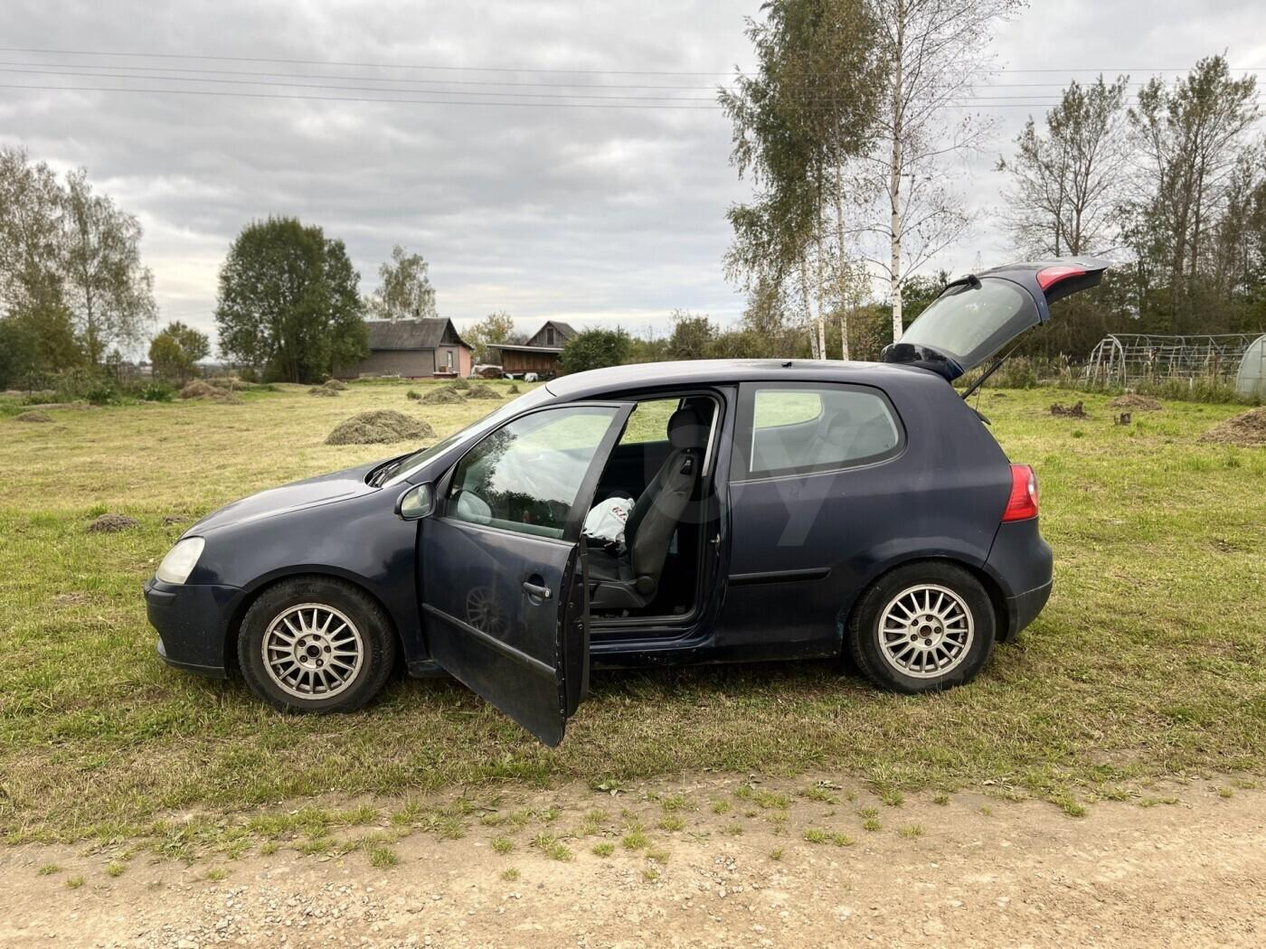Golf_2003-2009: (154, 353, 1054, 740)
